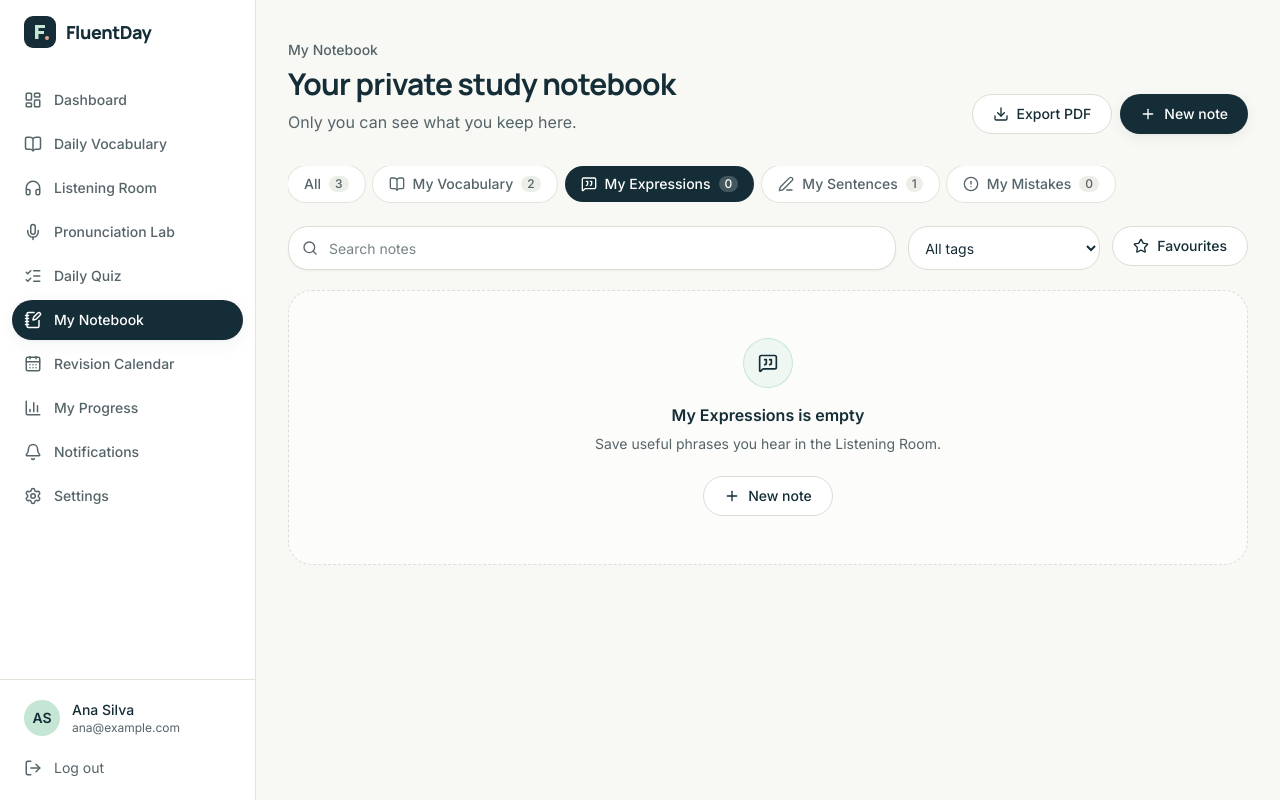
it: notebook › creates a note
The width and height of the screenshot is (1280, 800).
Check: the heading "My Expressions is empty" is shown, box 672,403 -> 864,427
Click the button "New note" next to "Export PDF" at (1184, 114), box 1120,94 -> 1248,134
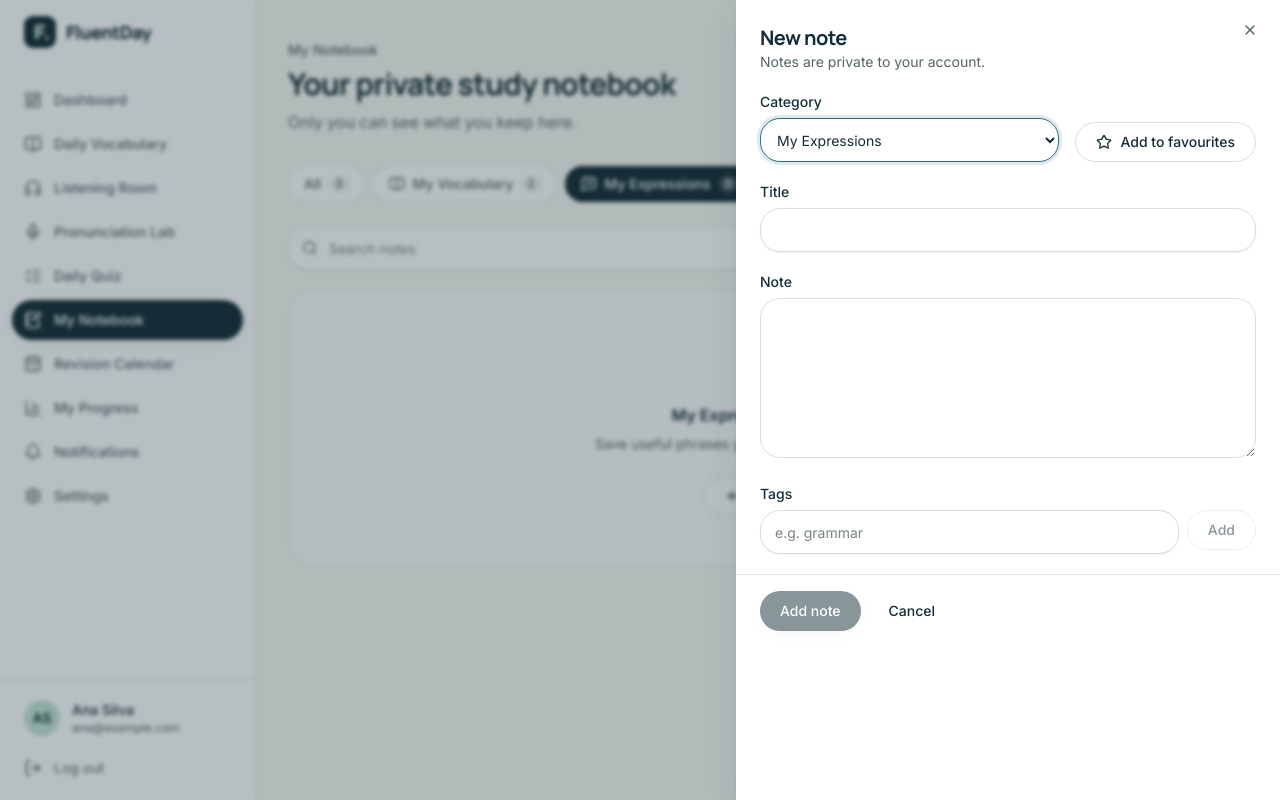
Type "break the ice" into the field labelled "Title" at (1008, 230), box 760,208 -> 1256,252
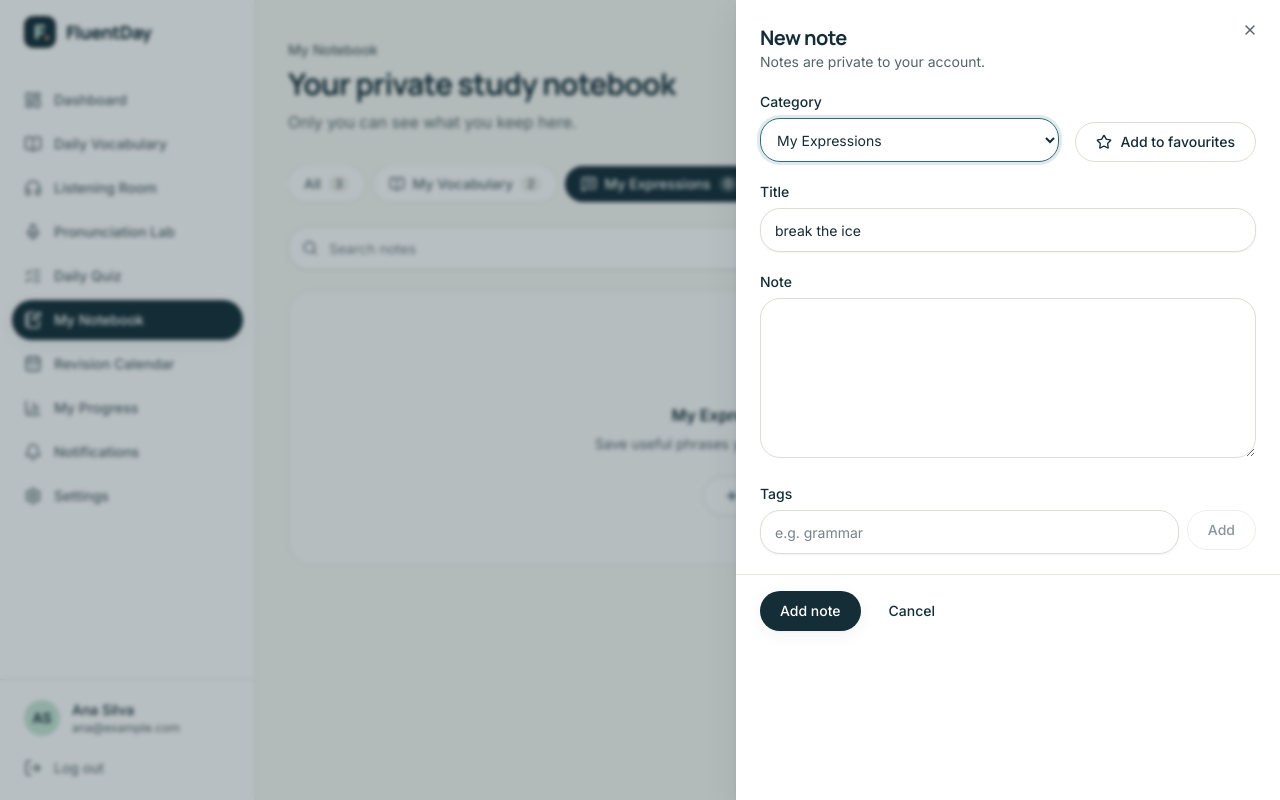
Type "Social" into the field labelled "Tags" at (969, 532), box 760,510 -> 1179,554
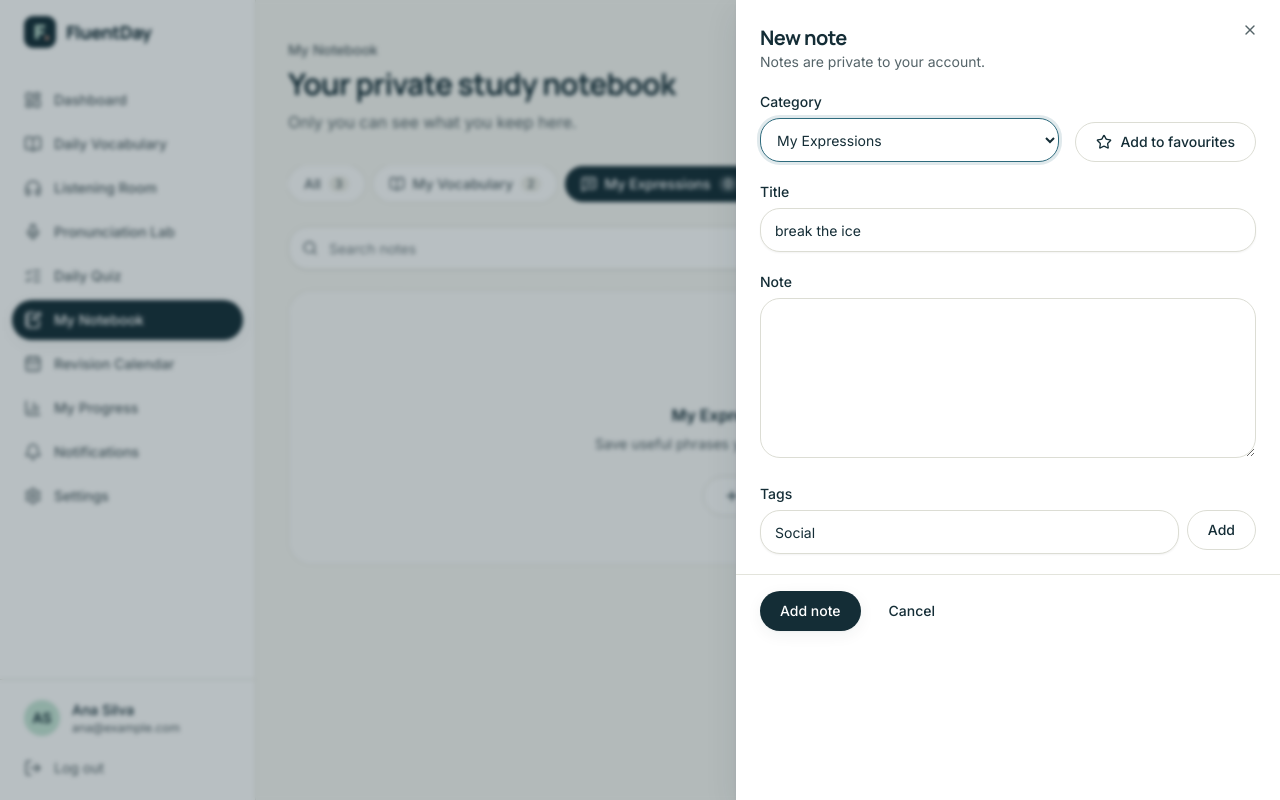
Click the button "Add" at (1221, 530), box 1187,510 -> 1256,550
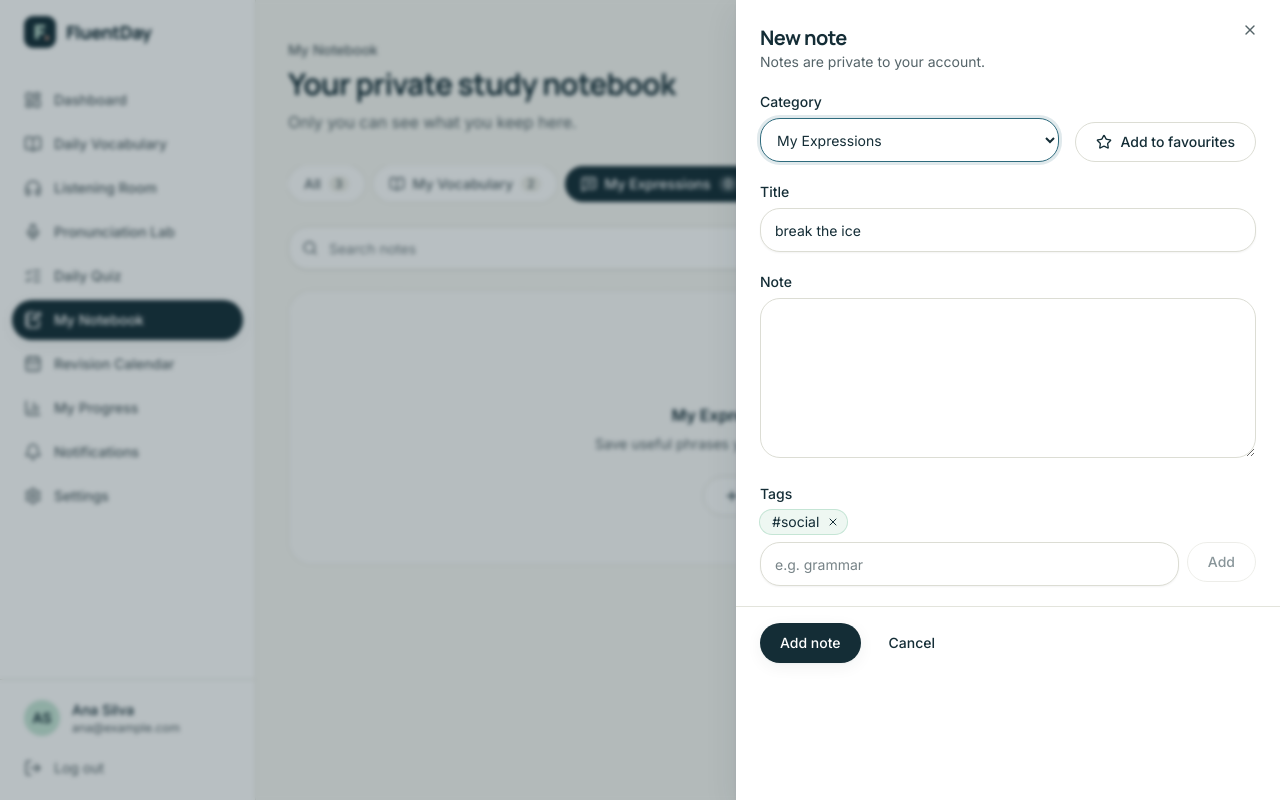
Click the button "Add note" at (810, 643), box 760,623 -> 861,663
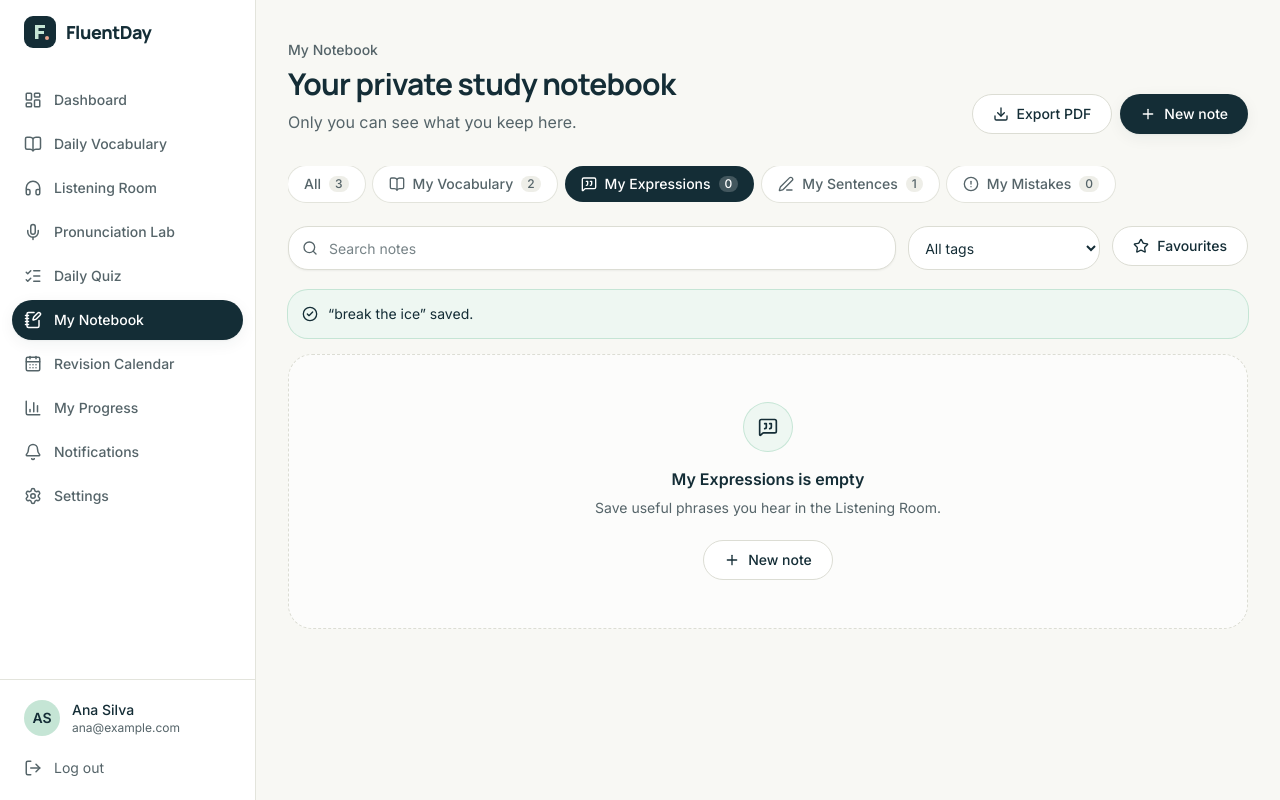
Check: the text "“break the ice” saved." is shown, box 328,305 -> 473,322
